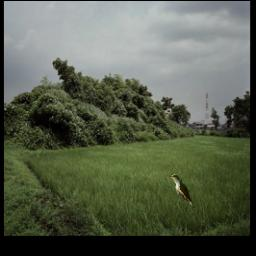Cuckoo: (169, 173, 196, 213)
